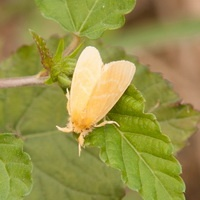insect: (57, 46, 135, 155)
